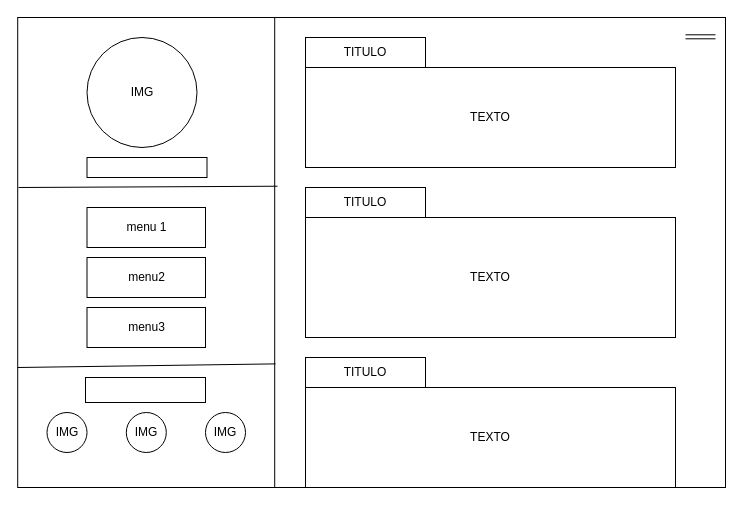
The diagram is 743 pixels wide and 505 high, and some of its shapes have lost their labels. The shapes that lost their labels are listed below. From the top down, each one's box as (x1, y1, x2, y2) in pixels, then its label:
(86, 156, 207, 178): NOME
(84, 376, 206, 402): REDES SOCIAIS
